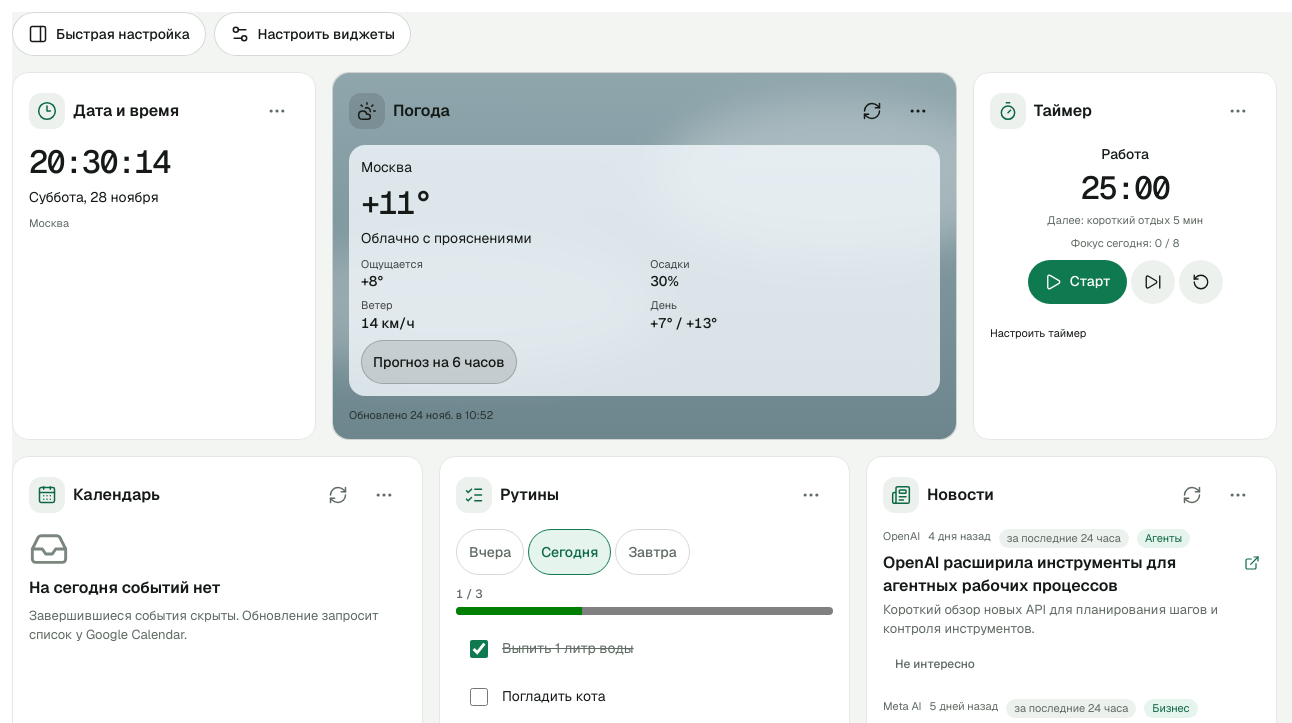
Scenario: обновление календаря › запрашивает Google и показывает полученные события
Check: the heading "На сегодня событий нет" is shown, box [29,577,221,600]
Click the button named "Обновить виджет «Календарь»". click: click(338, 495)
box: [316,473,360,517]
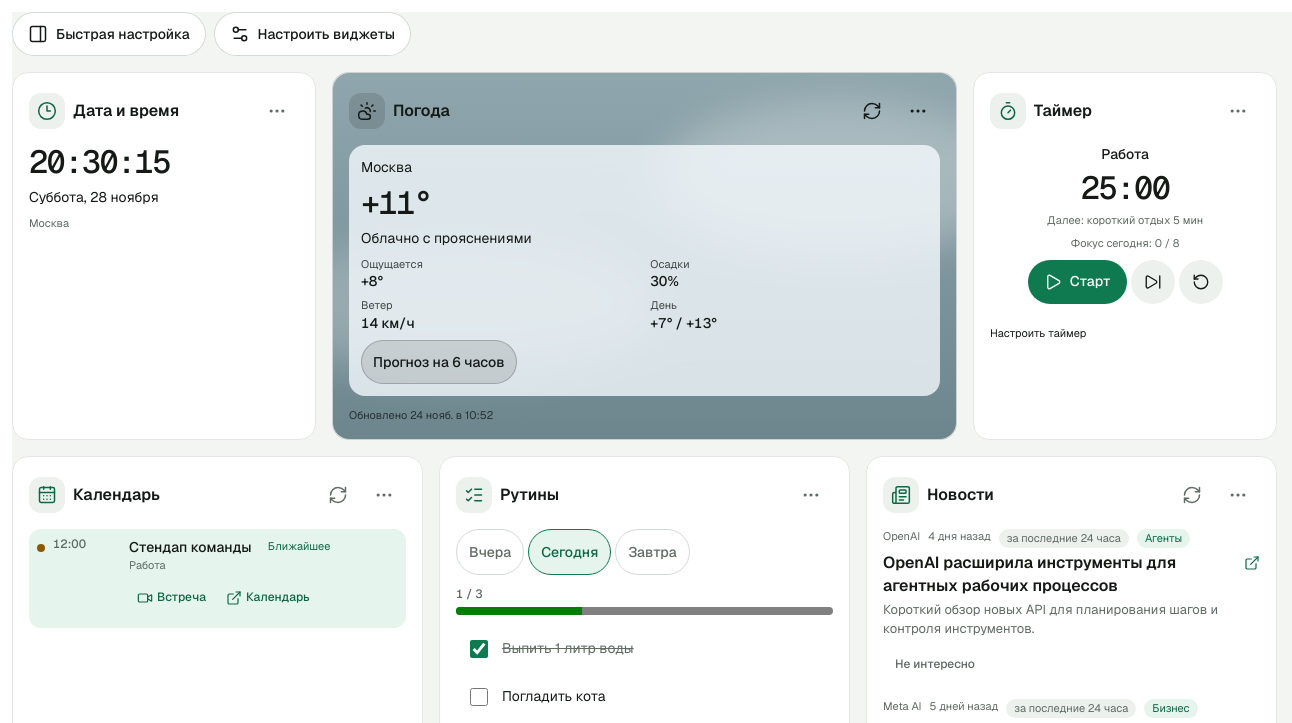
Check: the text "Стендап команды" is shown, box [129,538,252,556]
